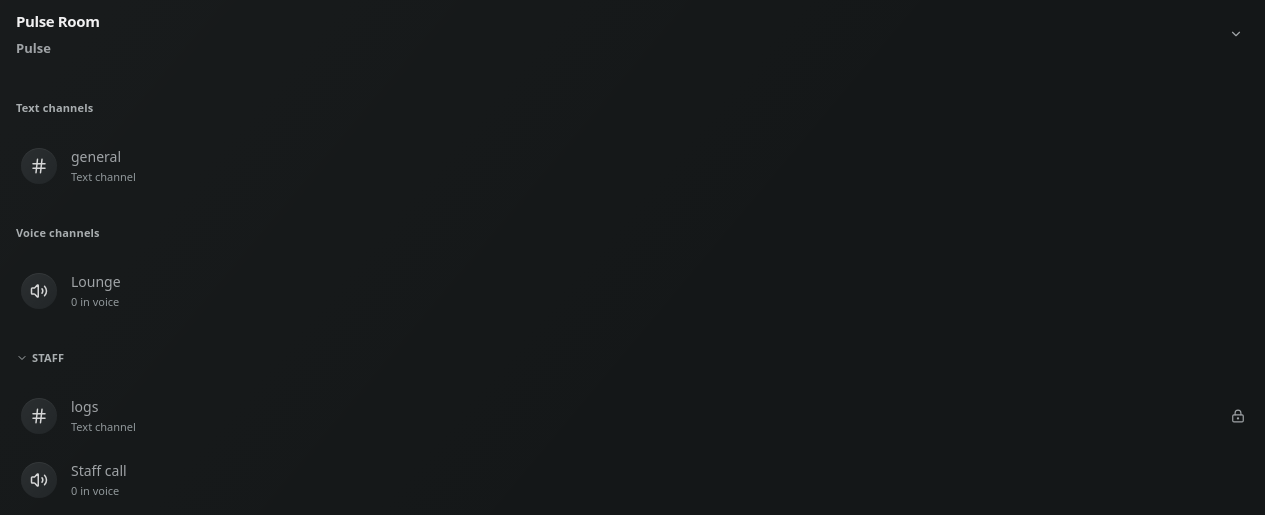
Test: ChannelSidebar with categories › lists a category’s channels under it, and folds it away
This screenshot has width=1265, height=515.
expect the text "logs" is shown: met, box [71,397,98,416]
expect the text "Staff call" is shown: met, box [71,461,127,480]
Click the button "STAFF" at point(48, 357), box [16,346,1248,370]
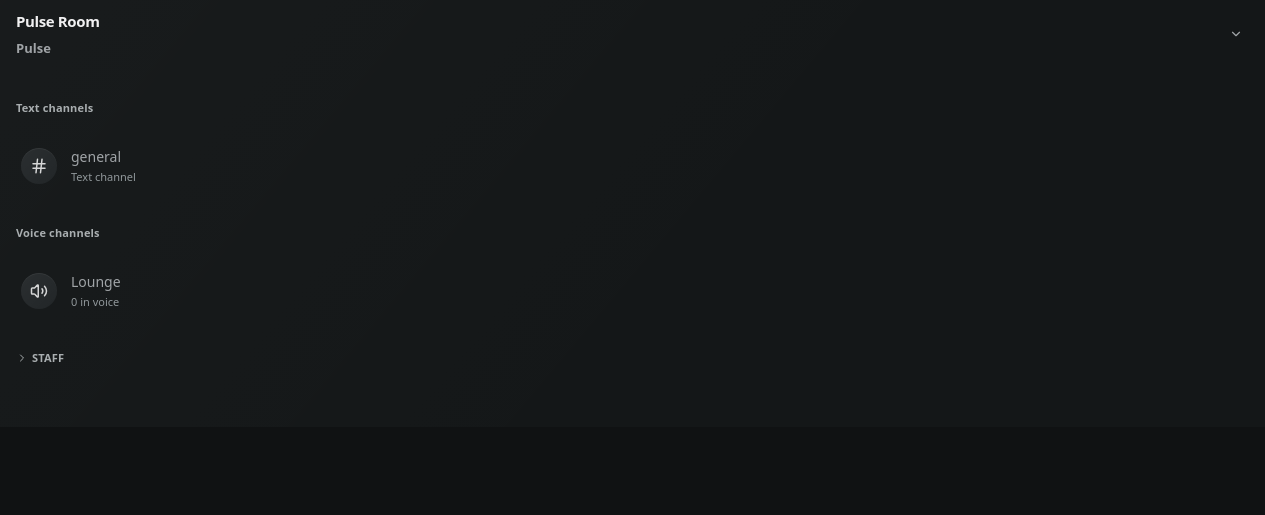
expect the button "STAFF" is collapsed: met, box [16,346,1248,370]
expect the button "logs" is gone: met
